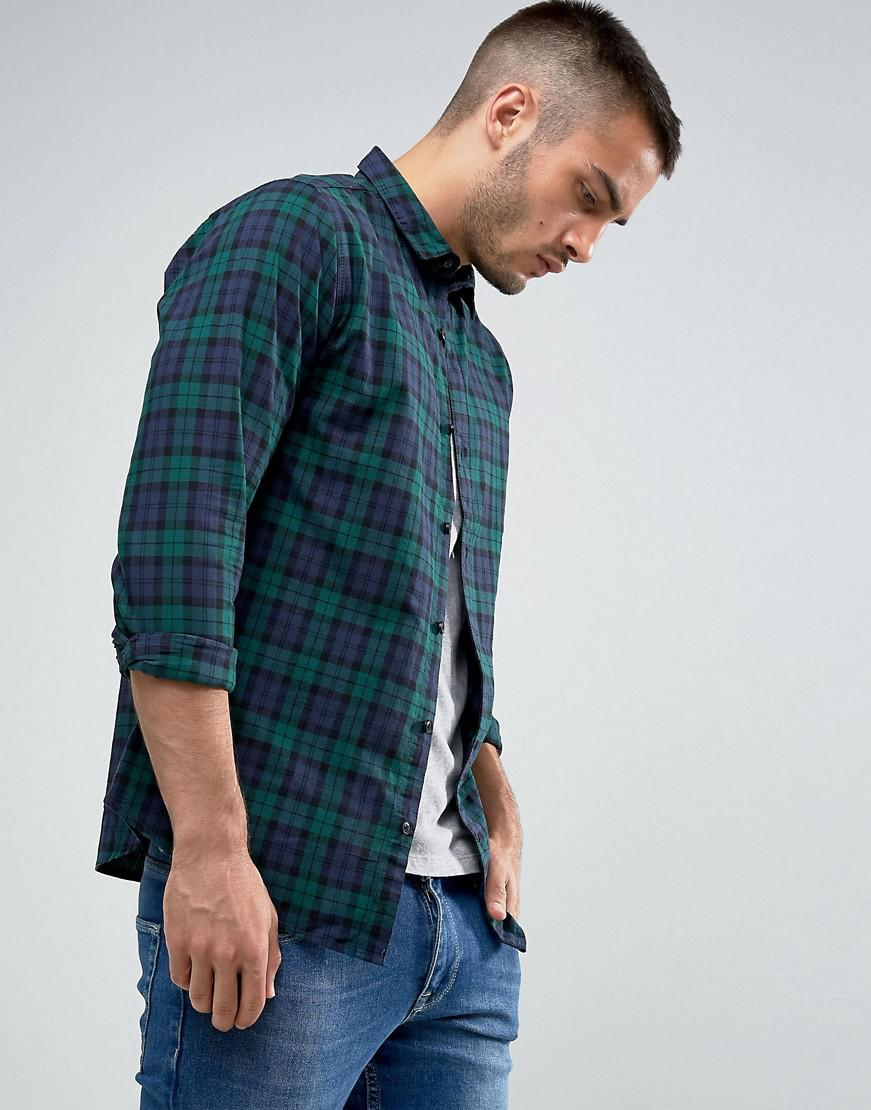teeshirt: (90, 139, 596, 966)
